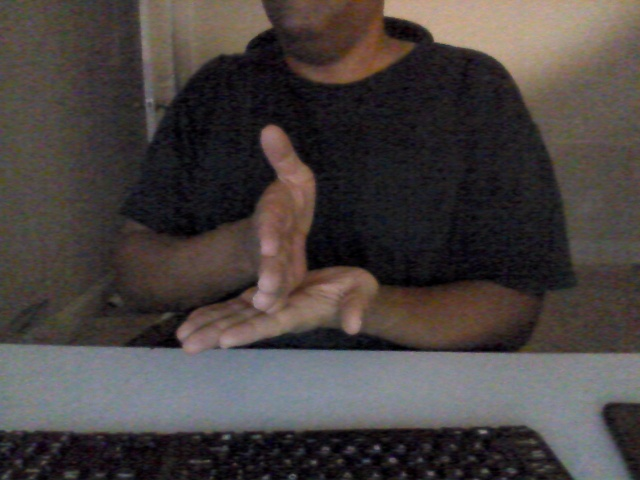stop: (169, 124, 382, 355)
